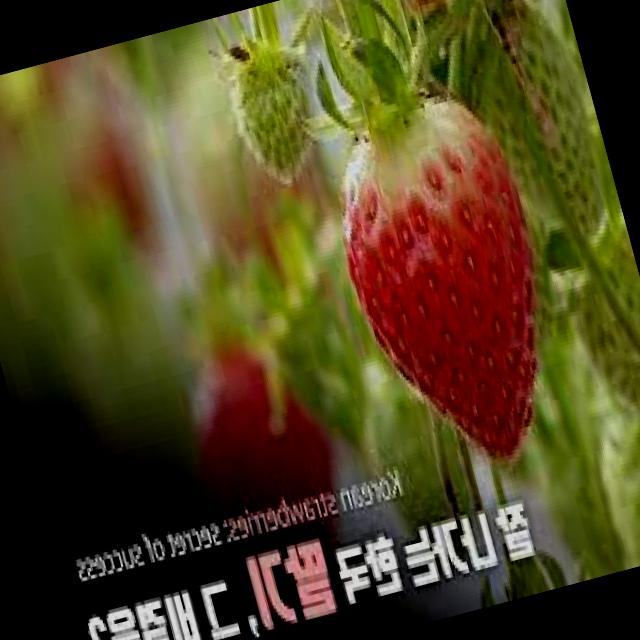Strawberry: (309, 74, 588, 486), (461, 0, 622, 250), (218, 38, 334, 188), (558, 231, 640, 436)
